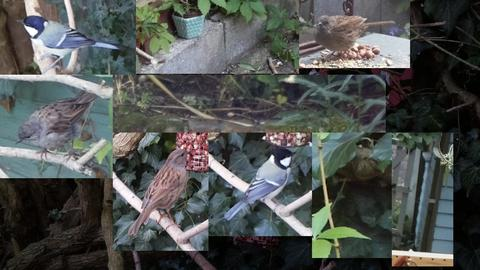dunnock: (15, 90, 98, 163), (128, 148, 194, 236), (314, 15, 395, 62)
great tit: (15, 15, 121, 74), (224, 148, 297, 221)
